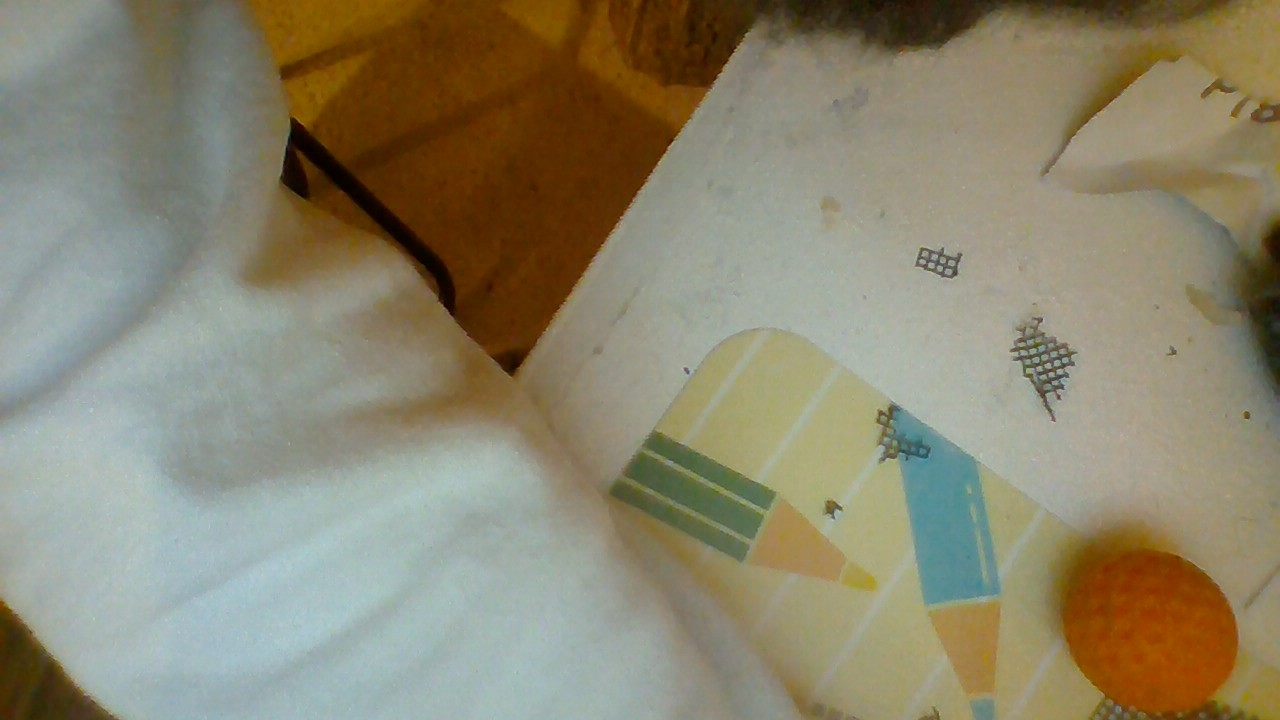ball: (1061, 549, 1236, 713)
